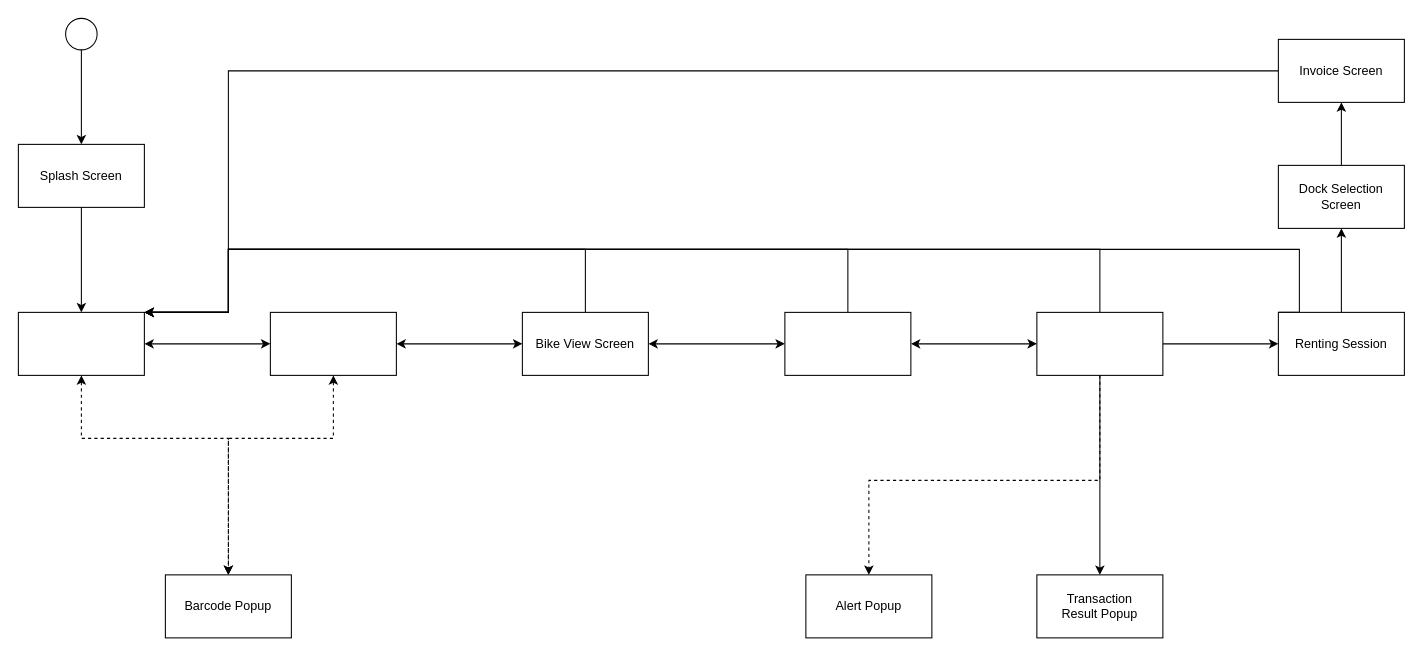
This 1423x656 diagram has some shape labels left out. Each missing label, with the centre of its shape:
"Confirm Payment Screen" goes at point 1099,343.
"Dock View Screen" goes at point 332,343.
"Home Screen" goes at point 80,343.
"Payment Screen" goes at point 847,343.
